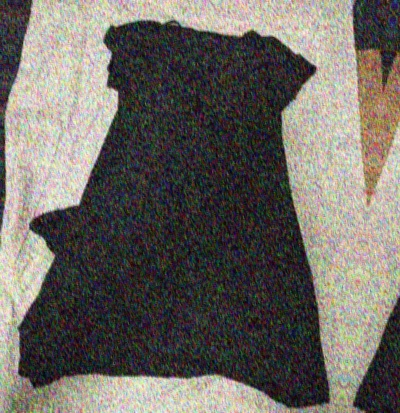Dress: (0, 0, 381, 413), (350, 31, 400, 413)
